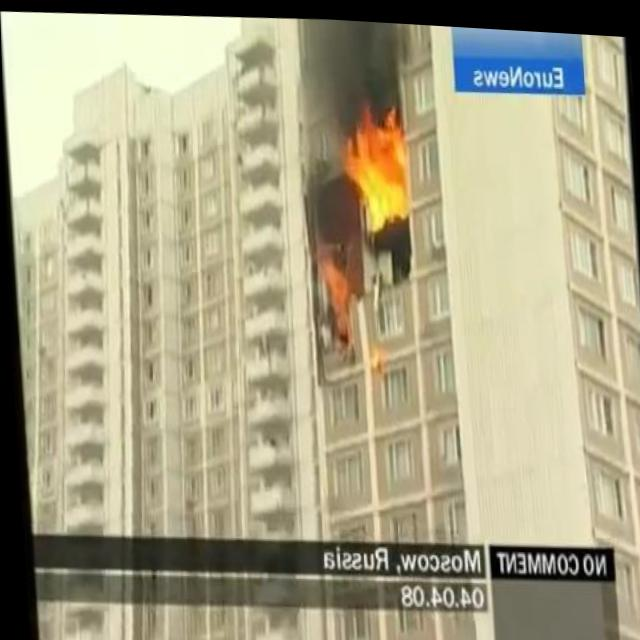fire: (337, 94, 413, 232), (309, 240, 353, 337)
